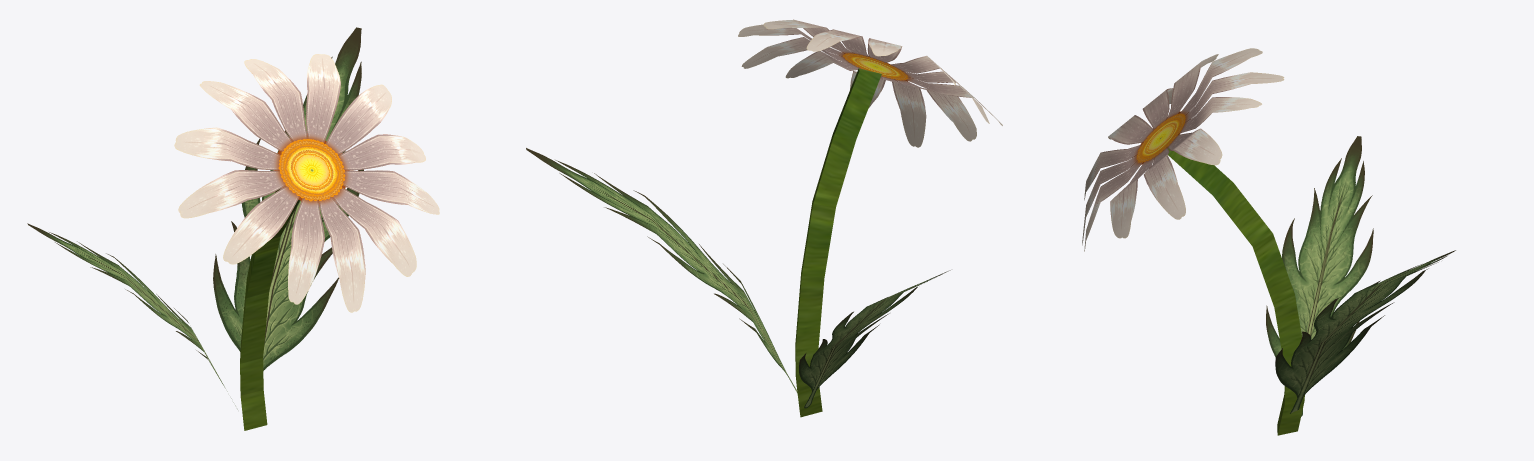
The model's file is flower_4.fbx.
3 views of the same model, side by side, from view 1: azimuth 30°, elevation 25°; view 2: azimuth 150°, elevation 25°; view 3: azimuth 270°, elevation 25° (orthographic). The views are drawn at different scales.
Parts seen in each view (by area): view 1: Plane.005; view 2: Plane.005; view 3: Plane.005.
Part boxes in pixels (<box>): Plane.005: <box>27,27,439,430</box>; Plane.005: <box>526,19,1002,417</box>; Plane.005: <box>1082,48,1455,435</box>.
Bounding box in the file's own units: 132 × 106 × 120.
